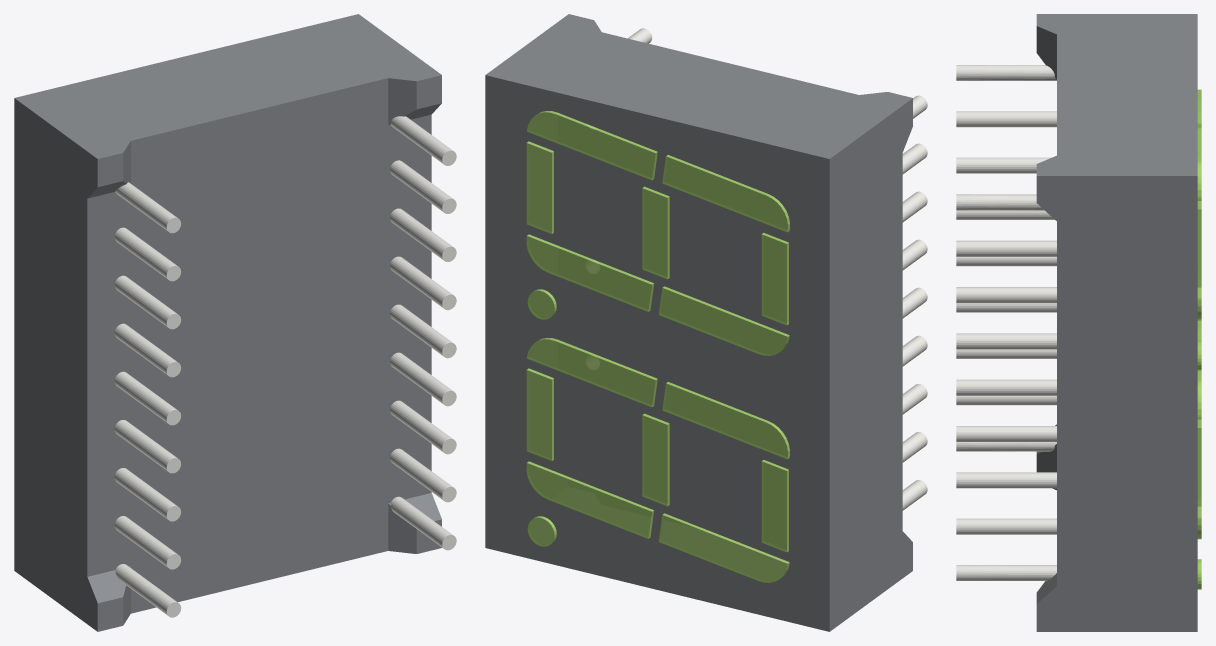
Rendered from DA56-11CGKWA.glb.
3 views of the same model, side by side, from view 1: azimuth 30°, elevation 25°; view 2: azimuth 150°, elevation 25°; view 3: azimuth 270°, elevation 25° (orthographic). The views are drawn at different scales.
Parts seen in each view (by area): view 1: Shape_IndexedFaceSet.010, Shape_IndexedFaceSet.023, Shape_IndexedFaceSet.007, Shape_IndexedFaceSet.027, Shape_IndexedFaceSet.008, Shape_IndexedFaceSet.028, Shape_IndexedFaceSet.004, Shape_IndexedFaceSet.019, Shape_IndexedFaceSet.124, Shape_IndexedFaceSet.015, Shape_IndexedFaceSet.016, Shape_IndexedFaceSet.123 (+19 smaller); view 2: Shape_IndexedFaceSet.024, Shape_IndexedFaceSet.023, Shape_IndexedFaceSet.007, Shape_IndexedFaceSet.134, Shape_IndexedFaceSet.136, Shape_IndexedFaceSet.133, Shape_IndexedFaceSet.139, Shape_IndexedFaceSet.126, Shape_IndexedFaceSet.129, Shape_IndexedFaceSet.141, Shape_IndexedFaceSet.132, Shape_IndexedFaceSet.127 (+7 smaller); view 3: Shape_IndexedFaceSet.009, Shape_IndexedFaceSet.007, Shape_IndexedFaceSet.014, Shape_IndexedFaceSet.016, Shape_IndexedFaceSet.017, Shape_IndexedFaceSet.018, Shape_IndexedFaceSet.019, Shape_IndexedFaceSet.020, Shape_IndexedFaceSet.124, Shape_IndexedFaceSet.015, Shape_IndexedFaceSet.012, Shape_IndexedFaceSet.039 (+12 smaller).
Boxes of the visible parts, x1,y1,x2,y2 form: Shape_IndexedFaceSet.010: (131, 125, 388, 565); Shape_IndexedFaceSet.023: (14, 98, 97, 631); Shape_IndexedFaceSet.007: (15, 14, 441, 158); Shape_IndexedFaceSet.027: (87, 192, 130, 576); Shape_IndexedFaceSet.008: (131, 78, 388, 186); Shape_IndexedFaceSet.028: (131, 503, 388, 613); Shape_IndexedFaceSet.004: (388, 114, 431, 503); Shape_IndexedFaceSet.019: (390, 256, 452, 307); Shape_IndexedFaceSet.124: (114, 227, 177, 279); Shape_IndexedFaceSet.015: (390, 352, 453, 403); Shape_IndexedFaceSet.016: (390, 304, 452, 355); Shape_IndexedFaceSet.123: (114, 323, 176, 375); Shape_IndexedFaceSet.024: (485, 75, 829, 631); Shape_IndexedFaceSet.023: (829, 98, 912, 631); Shape_IndexedFaceSet.007: (486, 14, 912, 158); Shape_IndexedFaceSet.134: (526, 339, 655, 407); Shape_IndexedFaceSet.136: (662, 156, 787, 232); Shape_IndexedFaceSet.133: (662, 383, 787, 459); Shape_IndexedFaceSet.139: (526, 236, 651, 311); Shape_IndexedFaceSet.126: (658, 515, 787, 582); Shape_IndexedFaceSet.129: (526, 463, 651, 538); Shape_IndexedFaceSet.141: (526, 112, 655, 180); Shape_IndexedFaceSet.132: (658, 288, 787, 355); Shape_IndexedFaceSet.127: (761, 461, 786, 552); Shape_IndexedFaceSet.009: (1036, 176, 1197, 631); Shape_IndexedFaceSet.007: (1036, 14, 1197, 175); Shape_IndexedFaceSet.014: (956, 472, 1056, 488); Shape_IndexedFaceSet.016: (956, 379, 1056, 395); Shape_IndexedFaceSet.017: (956, 240, 1056, 256); Shape_IndexedFaceSet.018: (956, 287, 1056, 303); Shape_IndexedFaceSet.019: (956, 333, 1056, 349); Shape_IndexedFaceSet.020: (956, 518, 1056, 534); Shape_IndexedFaceSet.124: (956, 111, 1056, 127); Shape_IndexedFaceSet.015: (956, 426, 1056, 441); Shape_IndexedFaceSet.012: (956, 565, 1056, 580); Shape_IndexedFaceSet.039: (956, 65, 1056, 80).
Bounding box in the file's own units: 7.5 × 9.84 × 4.8.
